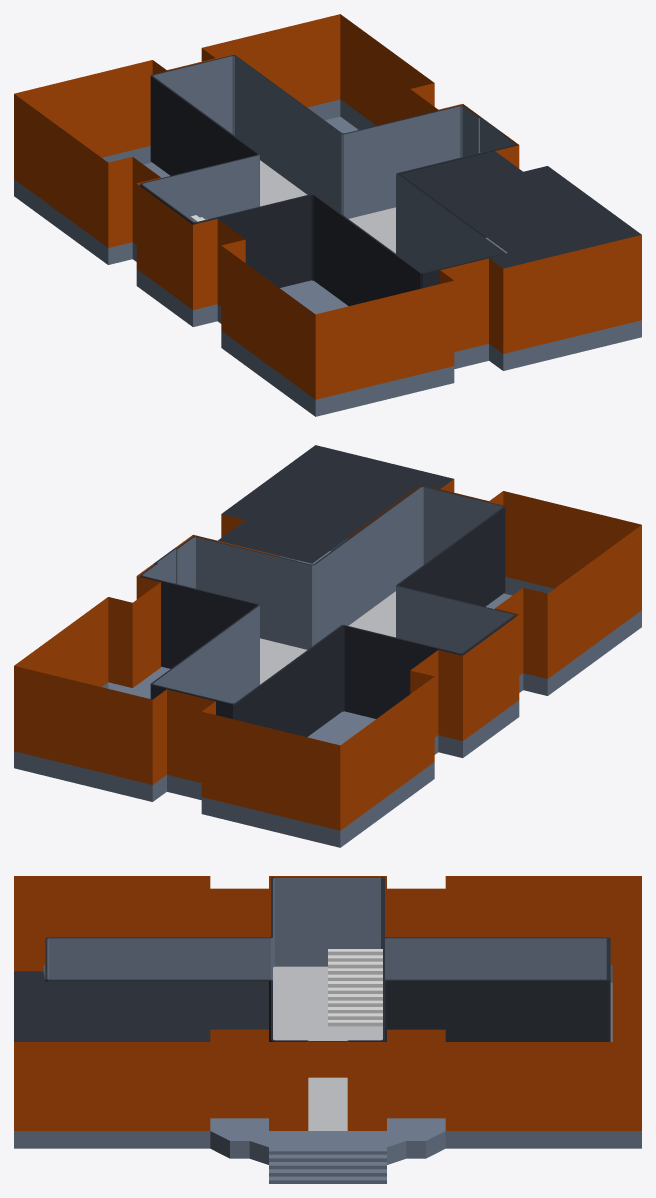
Rendered from FirstBuilding.fbx.
3 renders of one model, top to bottom at view 1: azimuth 30°, elevation 25°; view 2: azimuth 150°, elevation 25°; view 3: azimuth 270°, elevation 25°, orthographic. The views are drawn at different scales.
Parts seen in each view (by area): view 1: Cube, Plane; view 2: Cube, Plane; view 3: Cube, Plane, Cube.003.
Part boxes in pixels (x1=…): Cube: x1=14, y1=14, x2=641, y2=416; Plane: x1=140, y1=55, x2=515, y2=306; Cube: x1=14, y1=445, x2=641, y2=847; Plane: x1=140, y1=486, x2=515, y2=737; Cube: x1=14, y1=876, x2=641, y2=1183; Plane: x1=45, y1=877, x2=610, y2=1130; Cube.003: x1=328, y1=949, x2=382, y2=1026.
Bounding box in the file's own units: 2425 × 600 × 3200.
